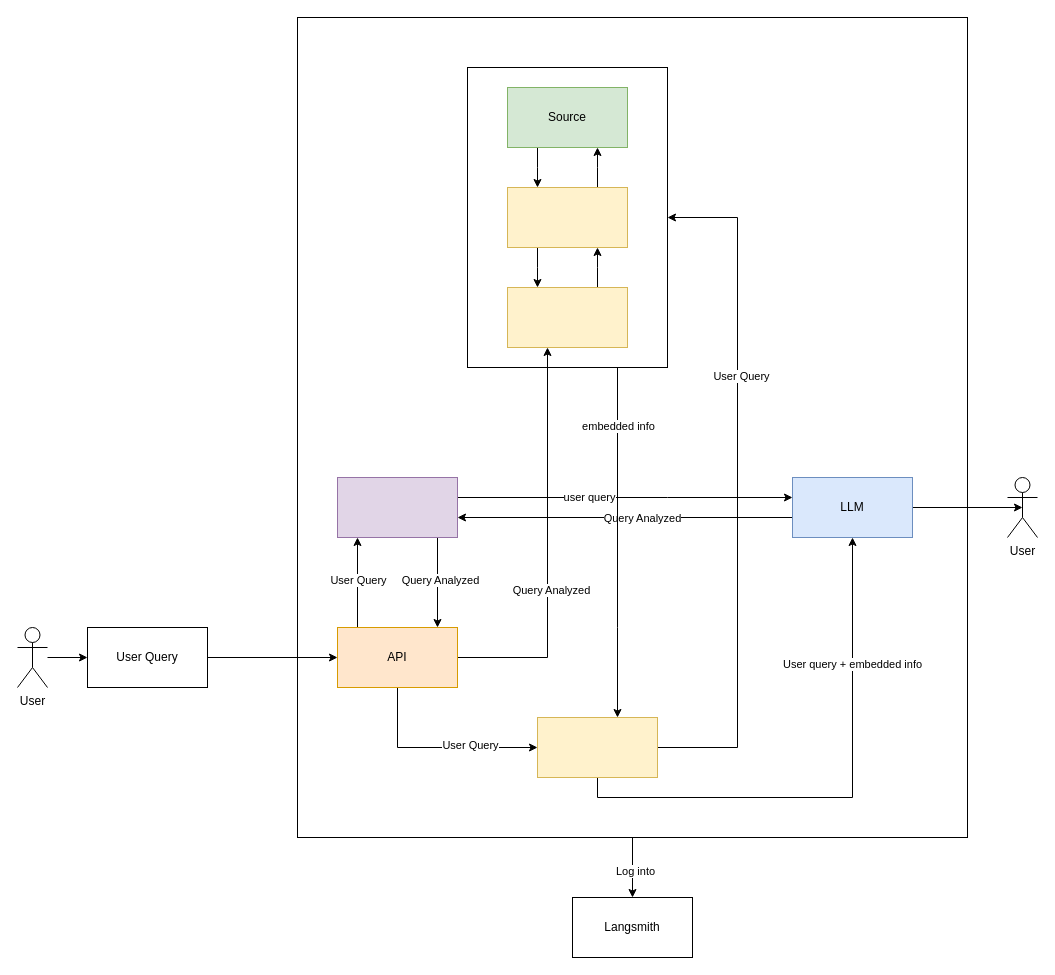
This 1055x975 diagram has some shape labels left out. Here are the shapes that lost their labels. From the top down, the centre of each, then its label:
At pixel 567 217: "Splitters".
At pixel 567 317: "Embeddings".
At pixel 397 507: "Query Analyzer".
At pixel 597 747: "Retriever".
